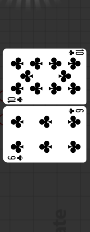10C: (67, 50, 84, 57)
5C: (6, 154, 24, 162)
